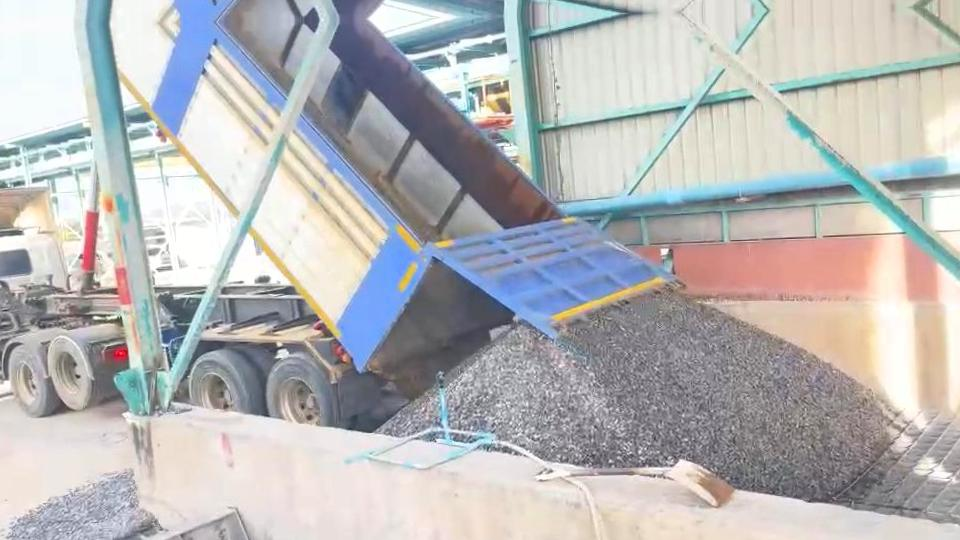gravel: (449, 291, 897, 500), (0, 471, 158, 540), (380, 394, 436, 436)
